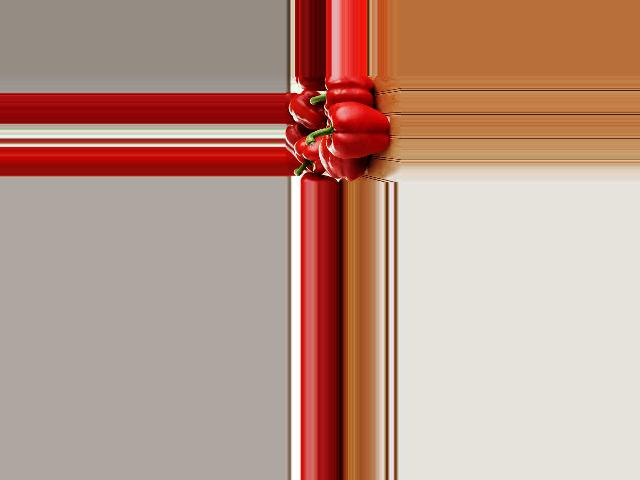bell_pepper: (292, 136, 327, 178)
